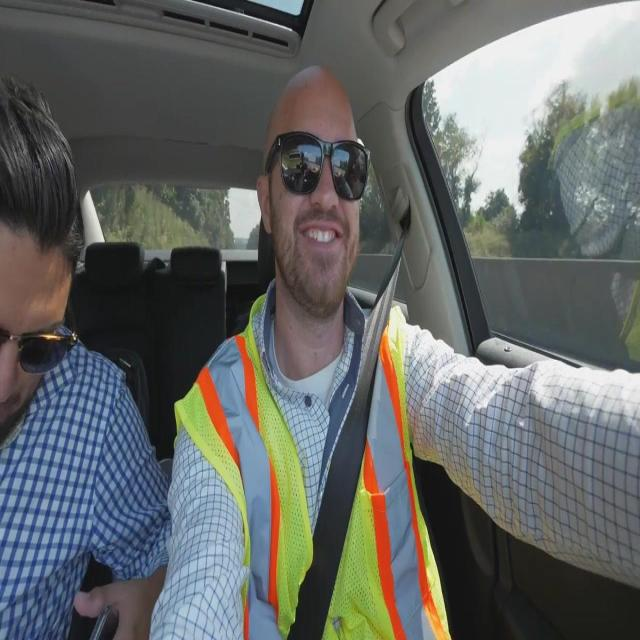Vest: (172, 293, 452, 639)
